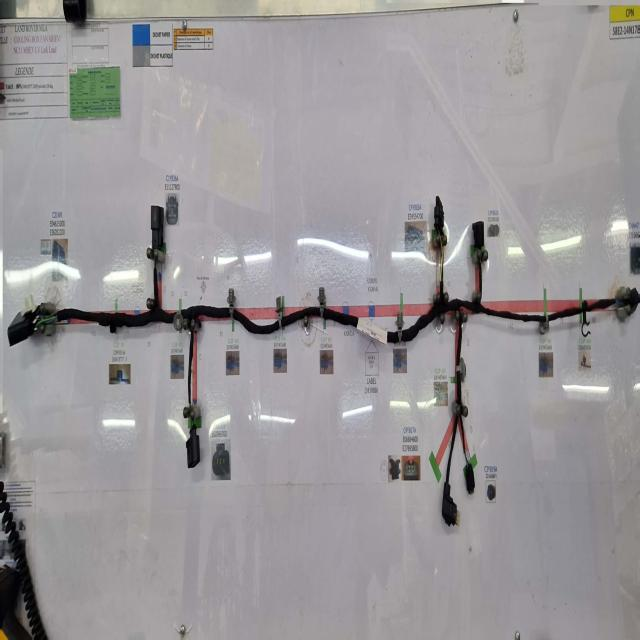Clip: (540, 299, 550, 333), (211, 285, 221, 317), (582, 302, 590, 339), (262, 291, 270, 324), (318, 286, 326, 316), (154, 308, 165, 329), (455, 358, 465, 378), (397, 309, 403, 341), (89, 309, 95, 329)
Connector: (7, 313, 32, 346), (443, 479, 460, 526), (185, 427, 200, 471), (149, 204, 162, 247), (434, 195, 444, 238), (466, 461, 475, 494), (473, 223, 484, 250), (630, 289, 640, 316)
Gape: (35, 308, 58, 328), (615, 291, 628, 311), (439, 236, 443, 283), (188, 409, 195, 433), (151, 251, 159, 271), (463, 449, 470, 468)
Info: (358, 319, 388, 346)
